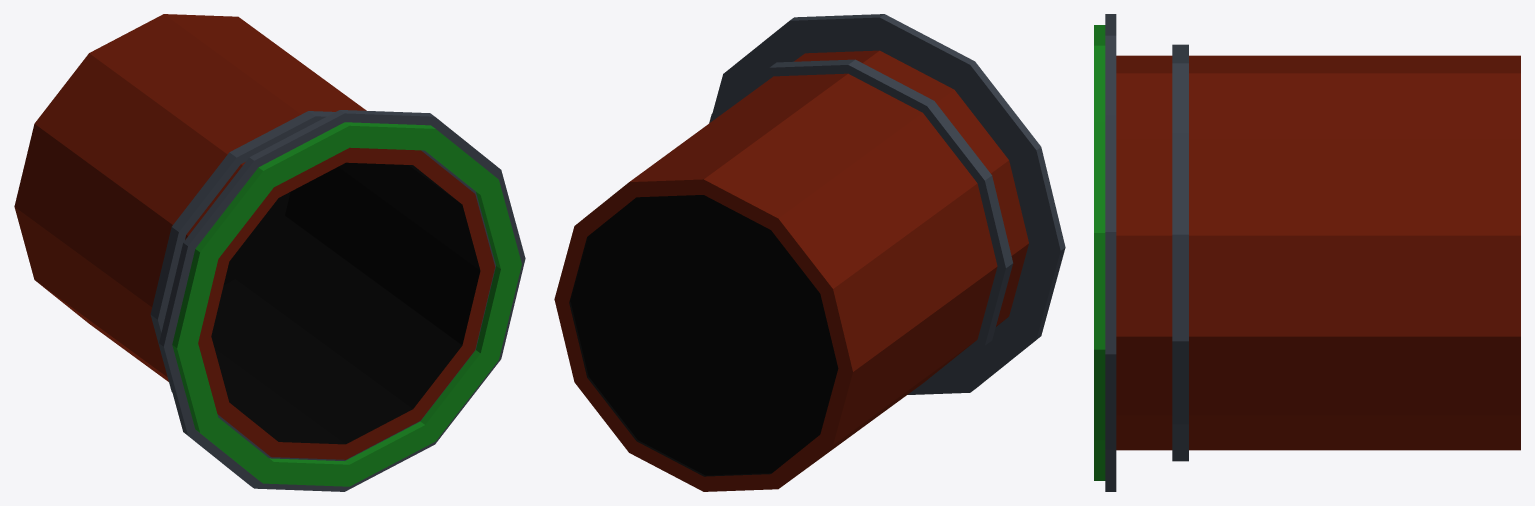
File: SM_Hide_Tube_Tutorial.glb
3 renders of one model, left to right at view 1: azimuth 30°, elevation 25°; view 2: azimuth 150°, elevation 25°; view 3: azimuth 270°, elevation 25°, orthographic. The views are drawn at different scales.
Parts seen in each view (by area): view 1: SM_Hide_Tube_Tutorial-col; view 2: SM_Hide_Tube_Tutorial-col; view 3: SM_Hide_Tube_Tutorial-col.
Part boxes in pixels (left/top/right/bottom): SM_Hide_Tube_Tutorial-col: left=14, top=14, right=525, bottom=491; SM_Hide_Tube_Tutorial-col: left=554, top=14, right=1065, bottom=491; SM_Hide_Tube_Tutorial-col: left=1094, top=14, right=1520, bottom=491.
Size of the model in its own units: 3.44 by 3.44 by 3.06.
